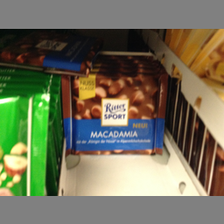chocolate: (63, 74, 168, 158)
